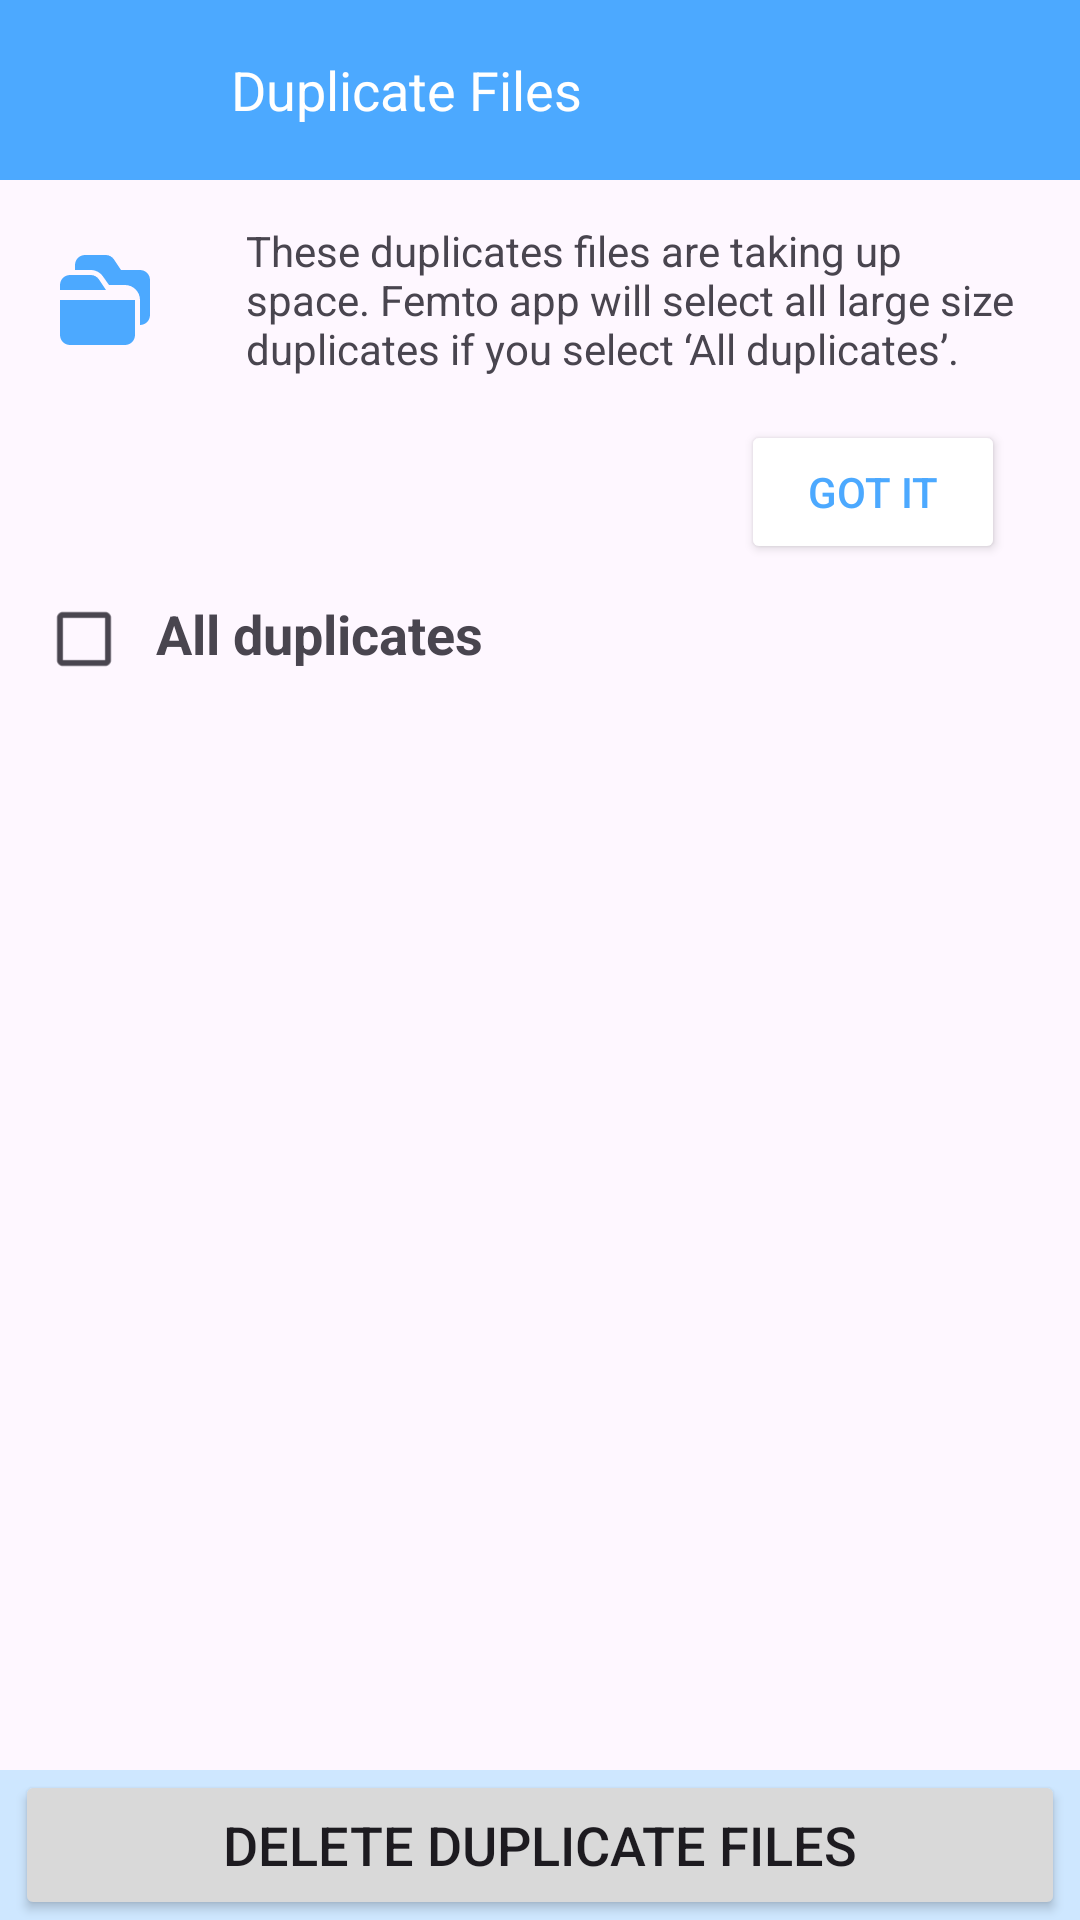

Named icons in this screenshot (1080×1920) and their bounding boxes, region(x1, y1, x2, y2):
folders: region(60, 255, 150, 345)
